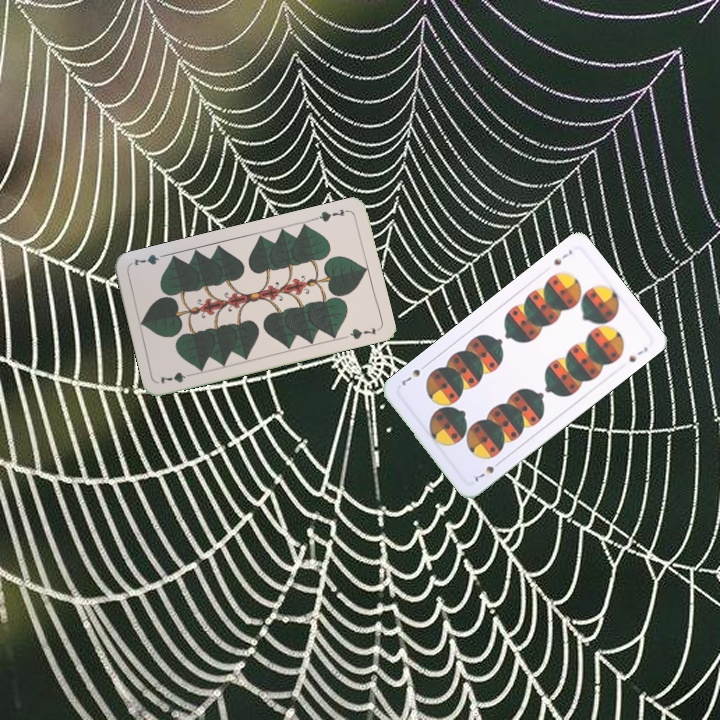G7: (311, 205, 351, 224), (156, 368, 197, 386)
S7: (471, 456, 504, 484), (550, 245, 575, 268)
